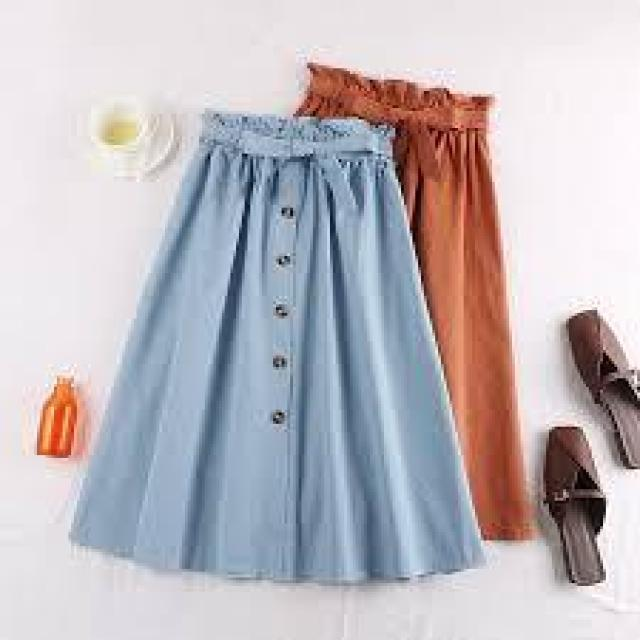skirt: (67, 119, 479, 586)
